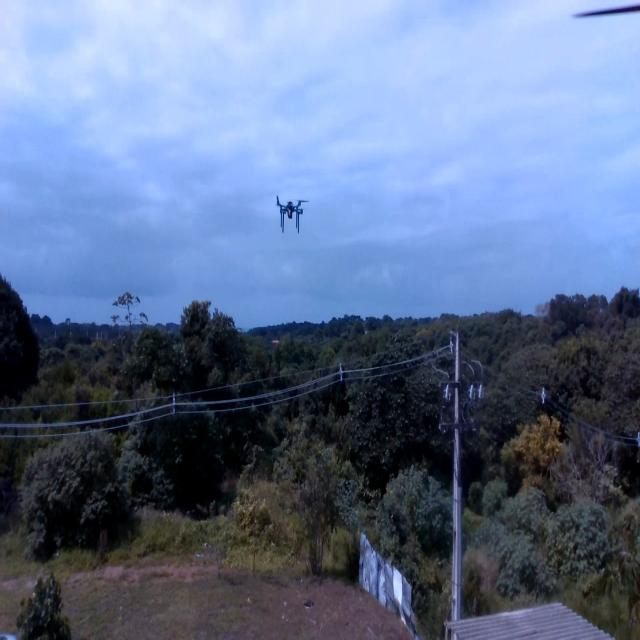-uav-: (272, 189, 314, 242)
